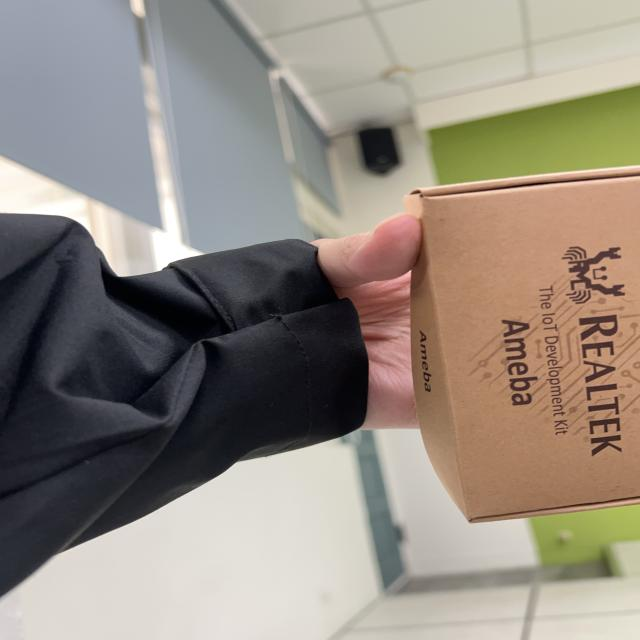box: (372, 168, 640, 530)
